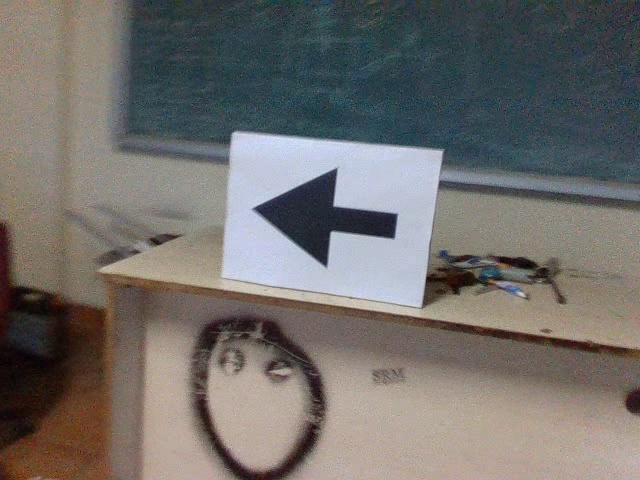Left: (247, 159, 403, 272)
